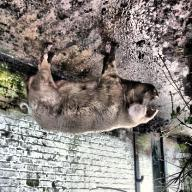boar: (20, 42, 159, 135)
